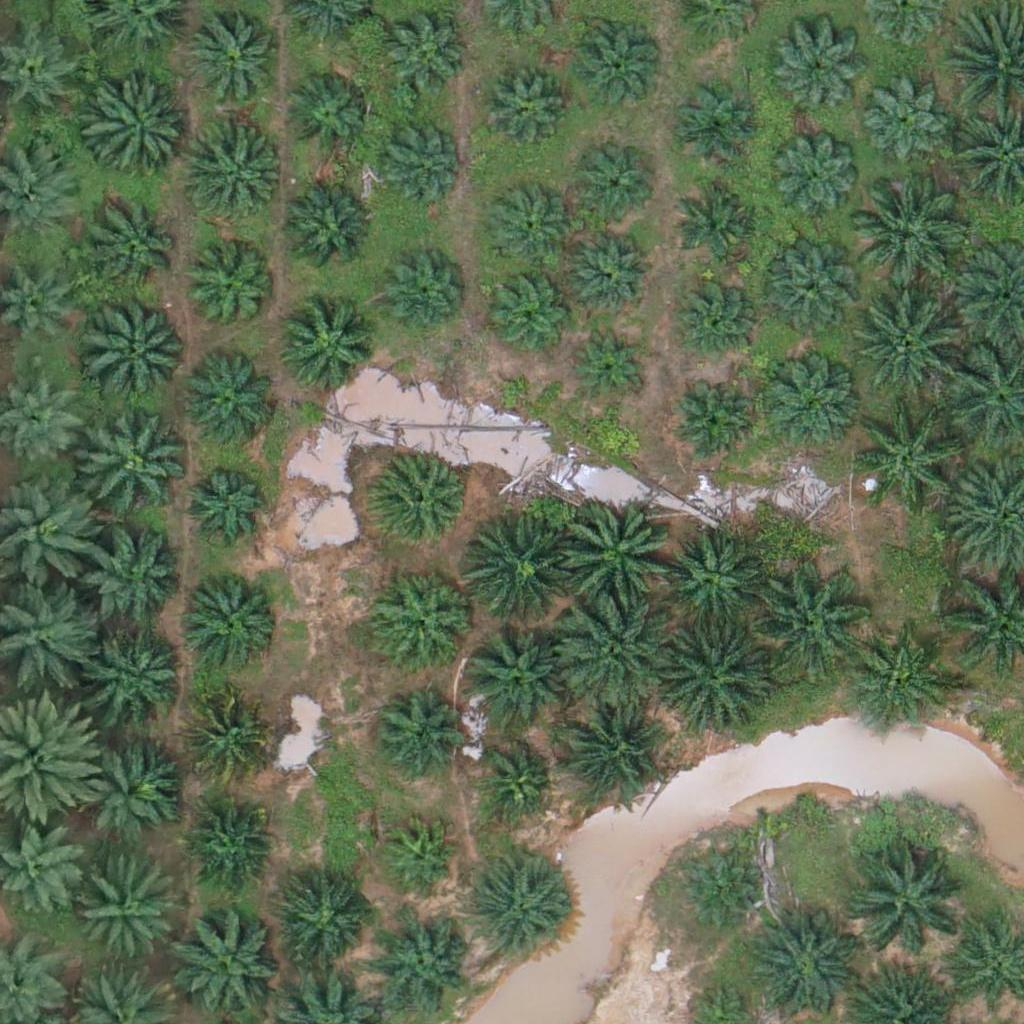Kelapa_Sawit: (654, 621, 767, 735), (851, 839, 964, 952), (172, 907, 285, 1020), (461, 517, 574, 630), (76, 406, 189, 519), (82, 291, 194, 405), (754, 563, 866, 676), (562, 596, 674, 709), (855, 400, 967, 513), (855, 291, 967, 404), (851, 179, 963, 292), (561, 500, 673, 613), (462, 626, 562, 727), (182, 568, 282, 669), (89, 627, 189, 728), (75, 864, 175, 965), (760, 246, 860, 347), (661, 527, 761, 628), (276, 182, 376, 283), (277, 298, 377, 399), (186, 126, 286, 227), (86, 82, 186, 183), (850, 636, 950, 736), (560, 701, 660, 801), (470, 861, 570, 961), (373, 569, 473, 669), (376, 914, 476, 1014), (84, 534, 184, 634), (74, 734, 174, 834), (759, 352, 859, 452), (371, 454, 471, 554), (179, 354, 279, 454), (88, 198, 188, 298), (673, 848, 761, 936), (370, 686, 458, 774), (281, 881, 369, 969), (181, 692, 269, 780), (772, 32, 860, 120), (772, 133, 860, 221), (379, 13, 467, 101), (372, 115, 460, 203), (474, 63, 562, 151), (572, 18, 660, 106), (671, 381, 759, 469), (188, 248, 276, 336), (180, 461, 268, 549), (184, 800, 271, 888), (379, 250, 466, 338), (489, 267, 576, 355), (485, 182, 572, 270), (570, 143, 657, 231), (571, 227, 658, 315), (669, 271, 756, 359), (677, 174, 764, 262), (669, 77, 756, 165), (861, 78, 948, 166), (284, 68, 371, 156), (193, 12, 280, 100), (572, 324, 647, 400), (382, 817, 457, 893), (477, 743, 552, 818)
